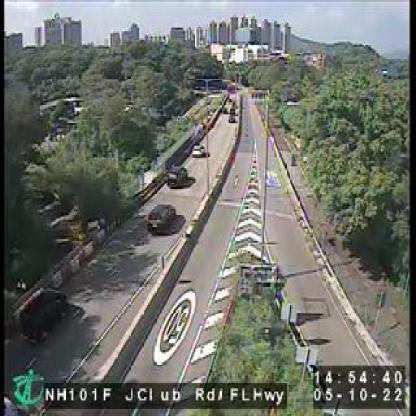Car: (20, 289, 68, 338), (146, 203, 174, 234), (166, 164, 186, 186), (190, 144, 203, 156)
